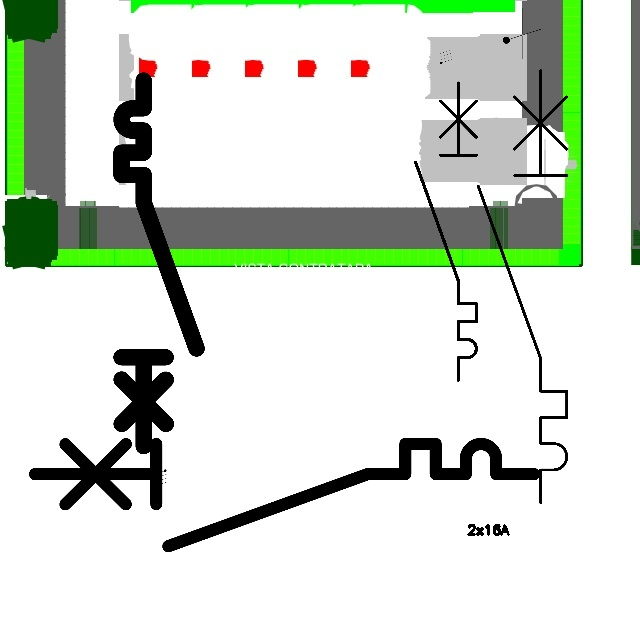interruptor_termomagnetico: (22, 431, 547, 559), (467, 59, 578, 513), (112, 71, 206, 456), (408, 75, 484, 387)
